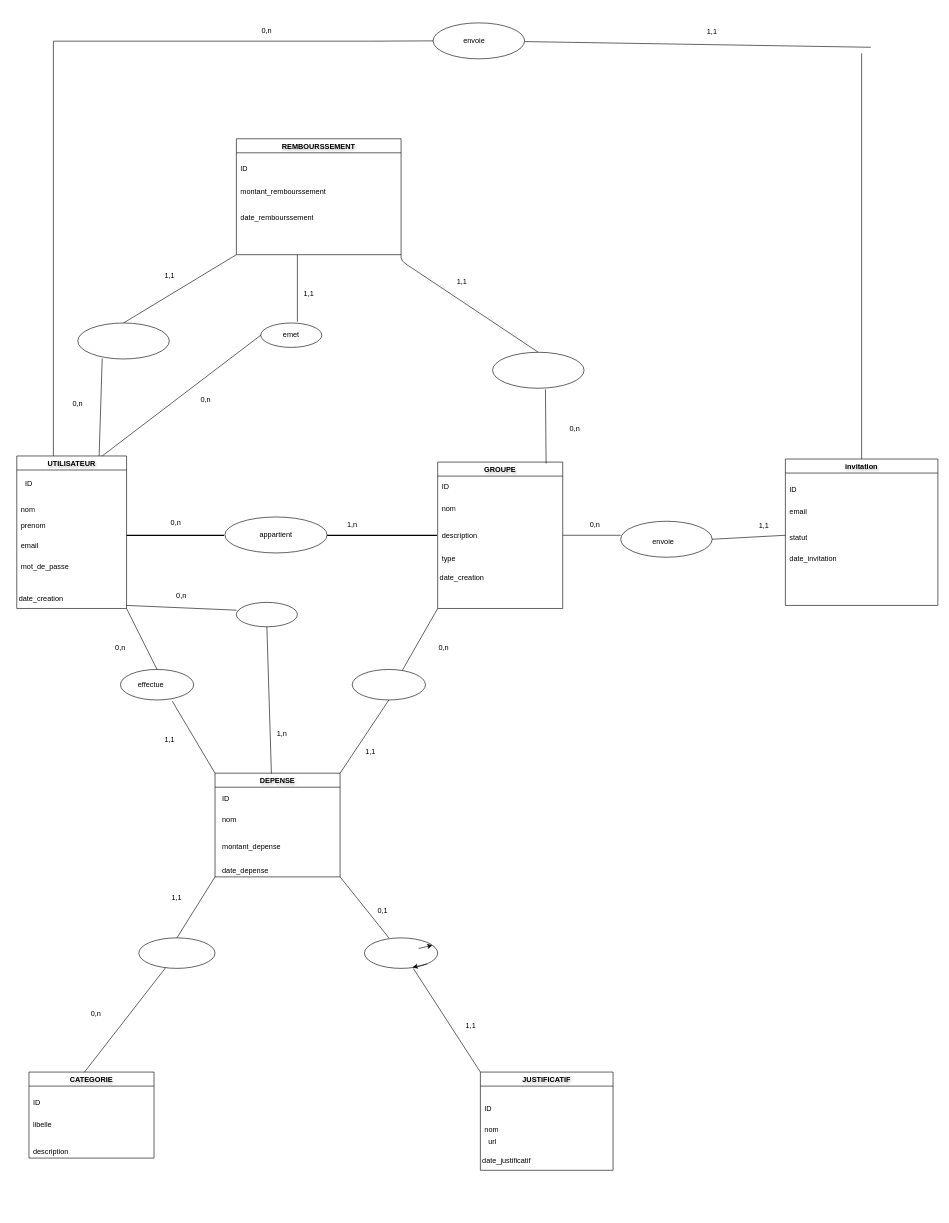
Image size: 949x1223. Some labels were removed from this diagram. Here are the shapes that lost their labels. From the top down, the centre of each, then its label:
pixel 123 340: reçoit
pixel 538 370: relative à
pixel 266 614: concerné
pixel 388 684: est dans
pixel 176 952: classé
pixel 401 952: justifié
